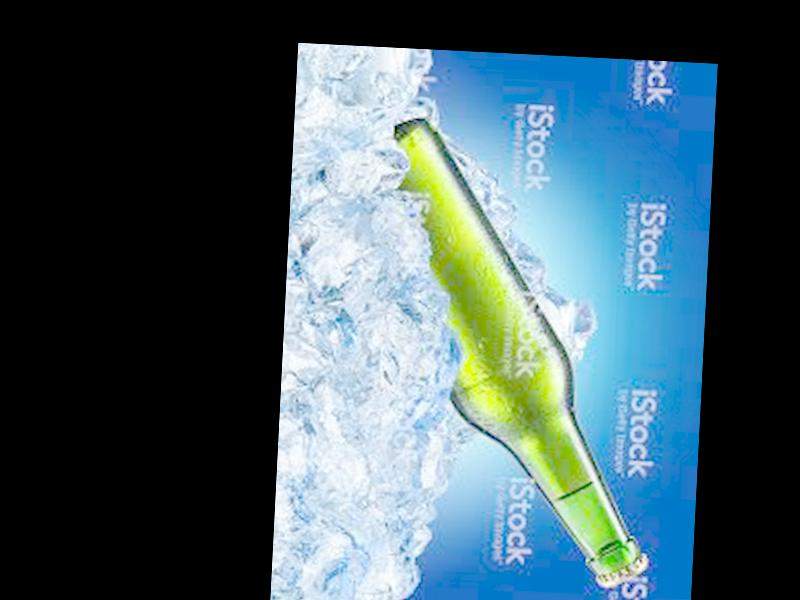Beer: (371, 115, 671, 594)
